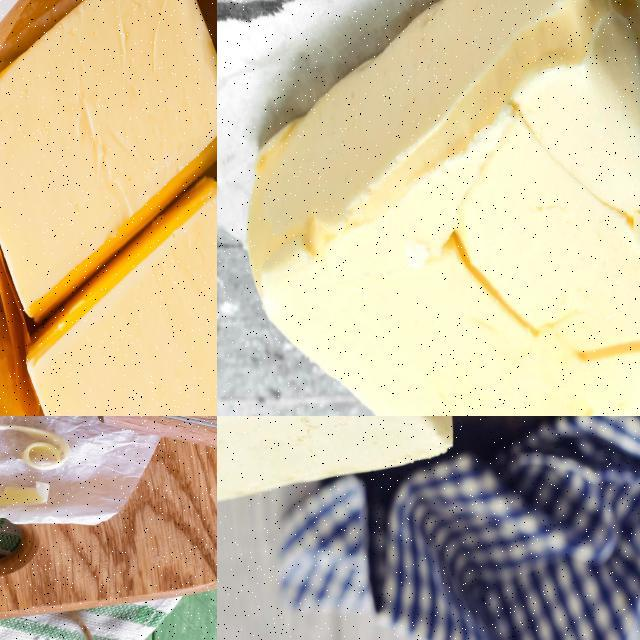Butter: (248, 0, 639, 415), (0, 0, 216, 326), (24, 176, 216, 415), (217, 416, 456, 503)
